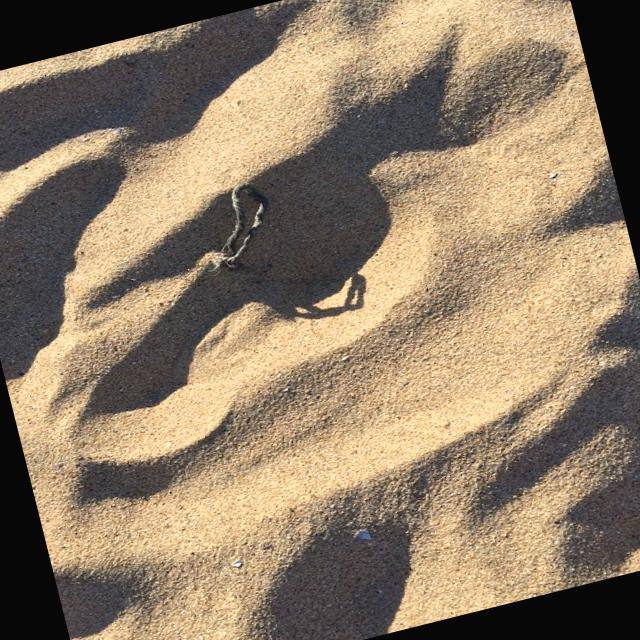Trash: (204, 176, 282, 269)
